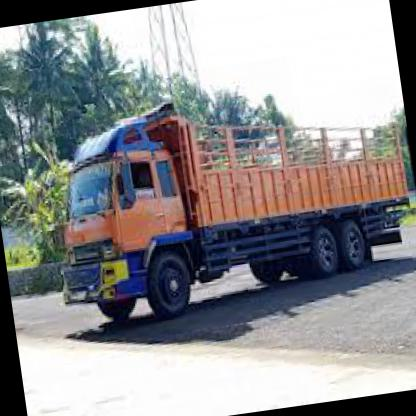truck: (48, 135, 203, 339)
